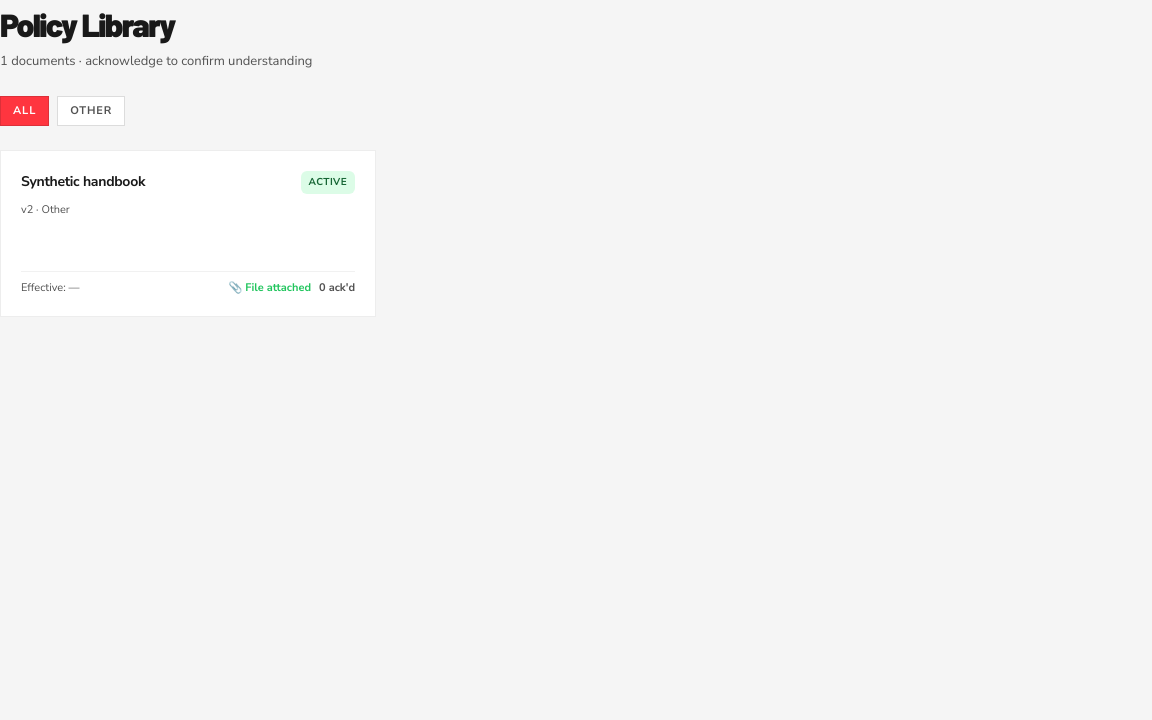
Test: published policy files are shown to the authorized employee
Click the button with test id "policy-handbook" at {"x": 83, "y": 182}, box [0, 150, 376, 317]
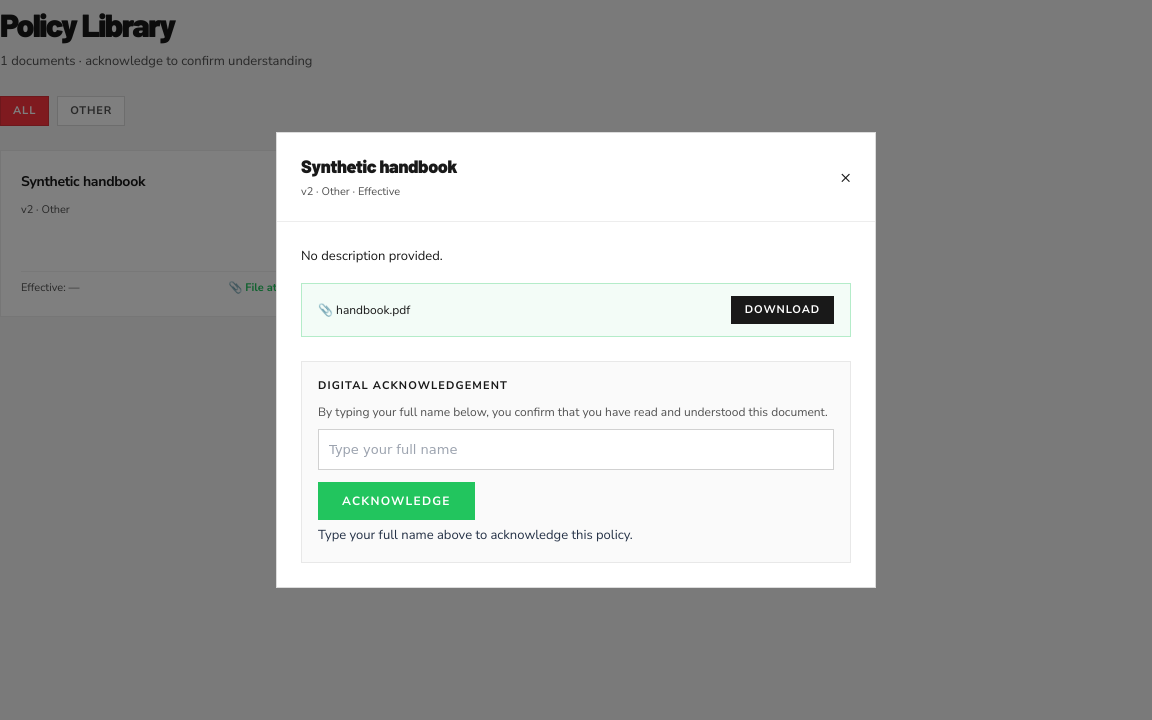
Expected: the text "handbook.pdf" is shown, [336, 302, 410, 318]
Expected: the field with test id "ack-signature" is enabled, [318, 429, 834, 470]
